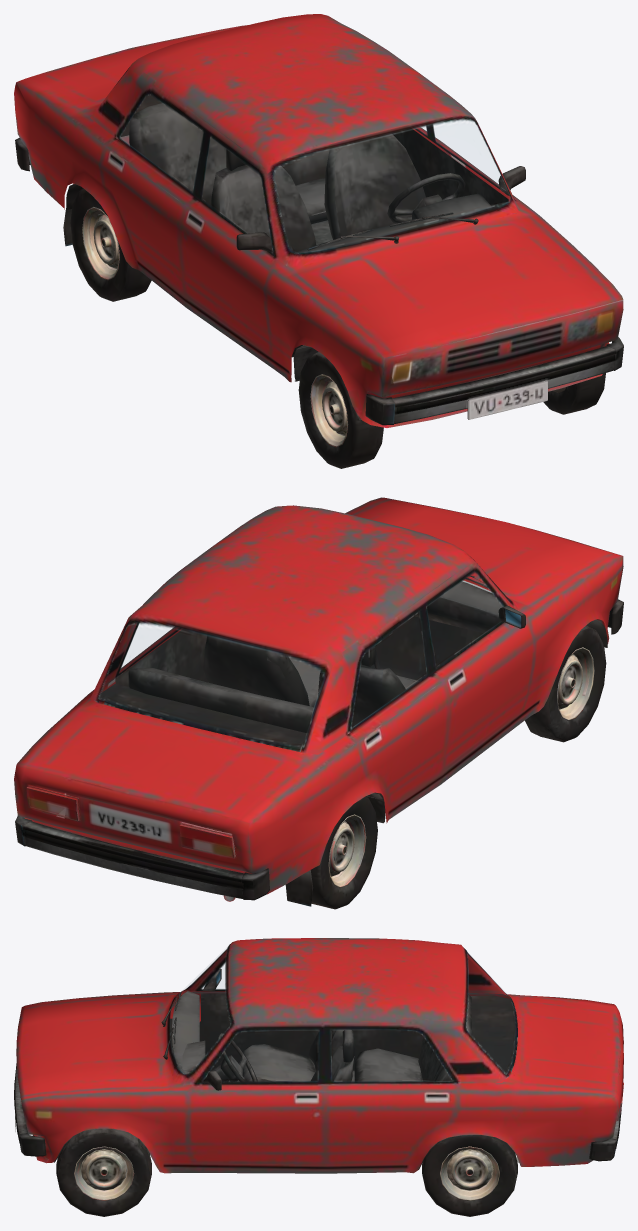
Rendered from cv-lada2107.glb.
The picture shows the model from 3 angles, top to bottom: view 1: azimuth 30°, elevation 25°; view 2: azimuth 150°, elevation 25°; view 3: azimuth 270°, elevation 25°; orthographic projection. The views are drawn at different scales.
Visible parts, largest first — view 1: lada_riva_body_lp_body_0; view 2: lada_riva_body_lp_body_0; view 3: lada_riva_body_lp_body_0.
Boxes of the visible parts, x1,y1,x2,y2 form: lada_riva_body_lp_body_0: (14, 14, 623, 468); lada_riva_body_lp_body_0: (14, 497, 623, 909); lada_riva_body_lp_body_0: (14, 938, 623, 1216).
Size of the model in its own units: 1.8 by 1.5 by 4.13.
Materials: 2 (2 with a texture image).
